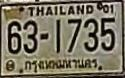1: (56, 18, 61, 53)
3: (23, 20, 37, 53), (83, 18, 97, 51)
5: (100, 17, 114, 50)
6: (7, 20, 20, 53)
7: (67, 18, 81, 52)
BKK: (21, 57, 99, 72)
